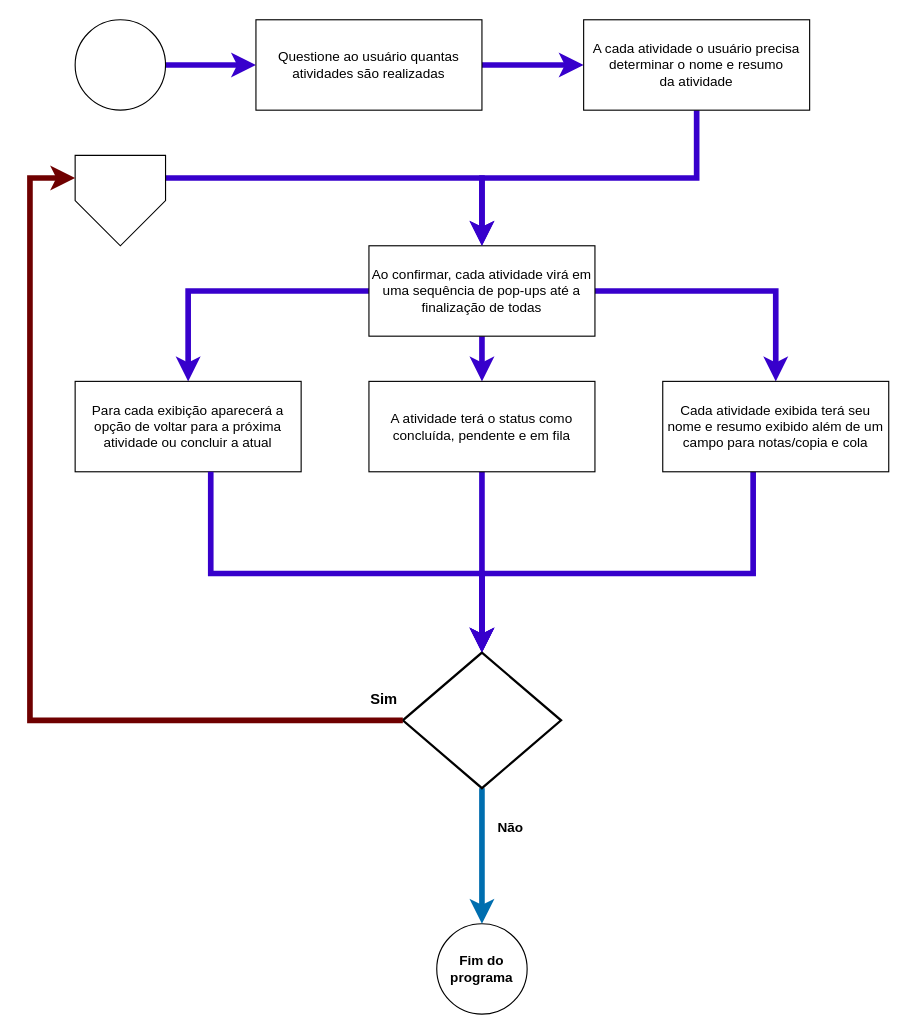
This 909x1034 diagram has some shape labels left out. Each missing label, with the centre of its shape:
"Início do programa" goes at (x=120, y=64).
"Questiona se deseja retornar" goes at (x=481, y=720).
"Retorno" goes at (x=120, y=200).
